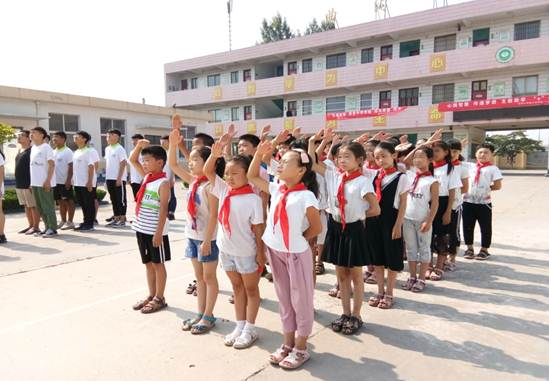handsup: (243, 134, 342, 372), (200, 139, 270, 356), (165, 127, 235, 339), (122, 136, 183, 319)
